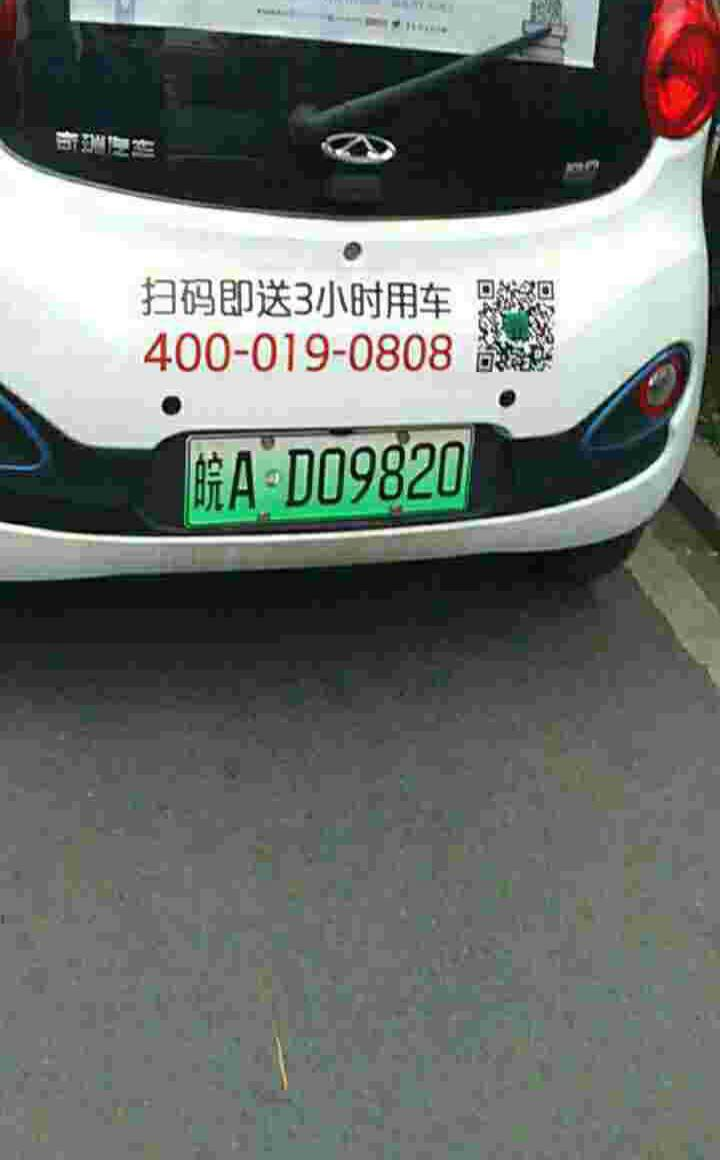car_id: (186, 425, 472, 524)
